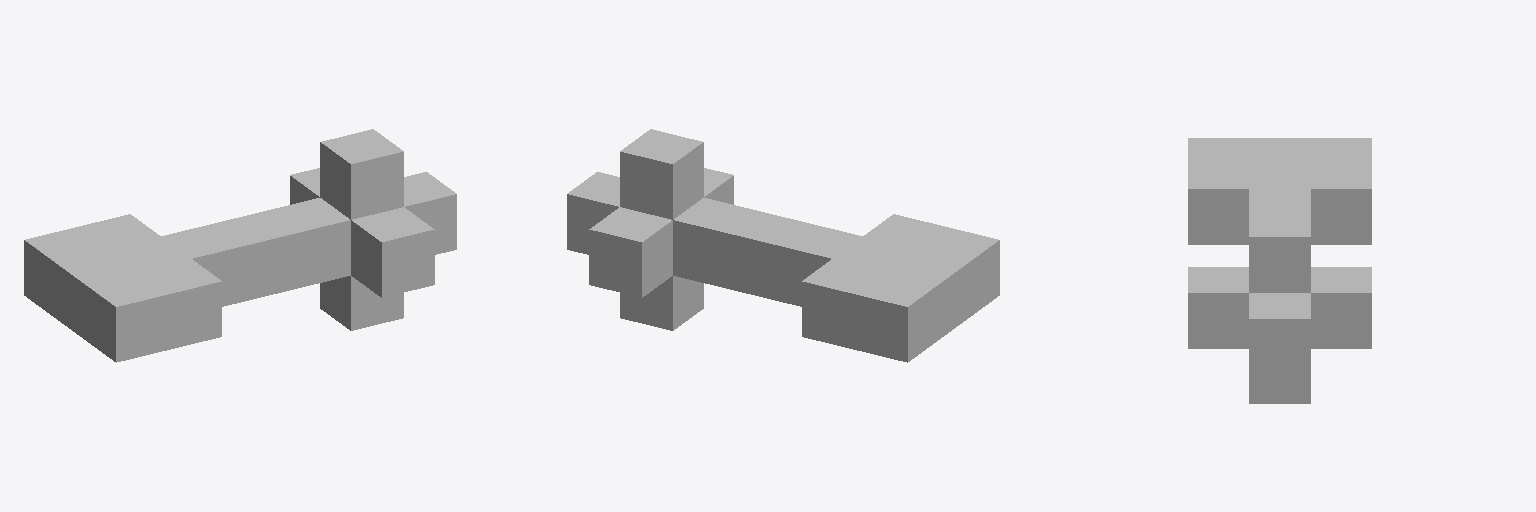
The model's file is arrow.obj.
The picture shows the model from 3 angles: view 1: azimuth 30°, elevation 25°; view 2: azimuth 150°, elevation 25°; view 3: azimuth 270°, elevation 25°; orthographic projection.
Parts seen in each view (by area): view 1: object 1; view 2: object 1; view 3: object 1.
Boxes of the visible parts, x1,y1,x2,y2 form: object 1: [24, 129, 456, 362]; object 1: [567, 129, 999, 362]; object 1: [1188, 138, 1371, 403].
Bounding box in the file's own units: 0.7 × 0.3 × 0.3.